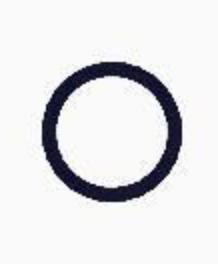RadioButton: (1, 1, 217, 263)
